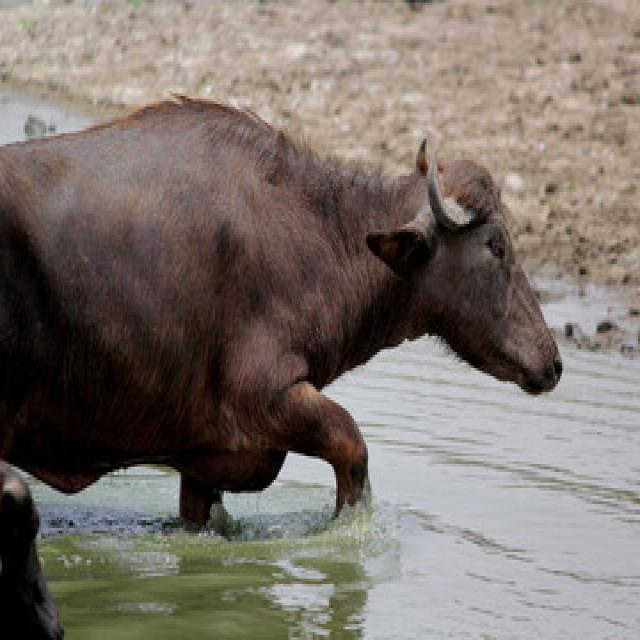Buffalo: (2, 97, 562, 531)
